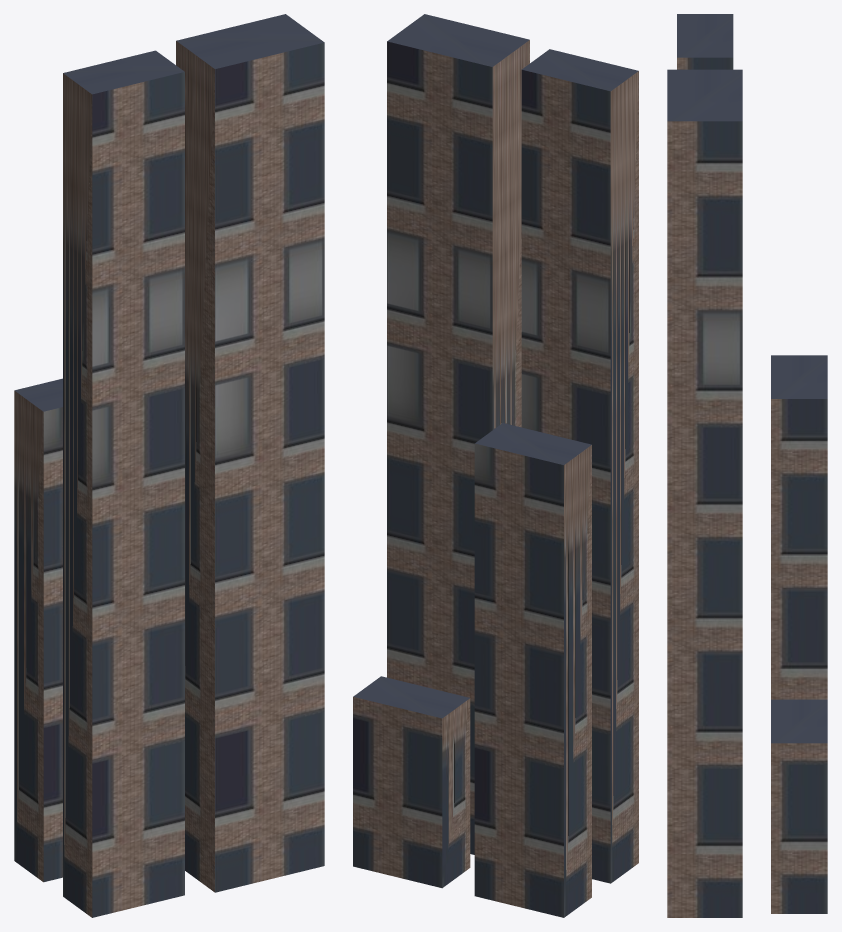
File: block_13.obj
The picture shows the model from 3 angles, left to right: view 1: azimuth 30°, elevation 25°; view 2: azimuth 150°, elevation 25°; view 3: azimuth 270°, elevation 25°; orthographic projection. The views are drawn at different scales.
Visible parts, largest first — view 1: b3, b1, b0; view 2: b3, b1, b0, b2; view 3: b3, b0, b2, b1.
Part boxes in pixels (<box>): b3: <box>176,14,324,892</box>; b1: <box>63,50,184,917</box>; b0: <box>14,378,62,882</box>; b3: <box>387,14,529,854</box>; b1: <box>521,49,638,883</box>; b0: <box>474,423,591,917</box>; b2: <box>353,676,470,888</box>; b3: <box>667,69,742,917</box>; b0: <box>771,355,827,699</box>; b2: <box>771,699,827,913</box>; b1: <box>677,14,733,69</box>.
Size of the model in its own units: 4.05 by 14 by 2.55.
